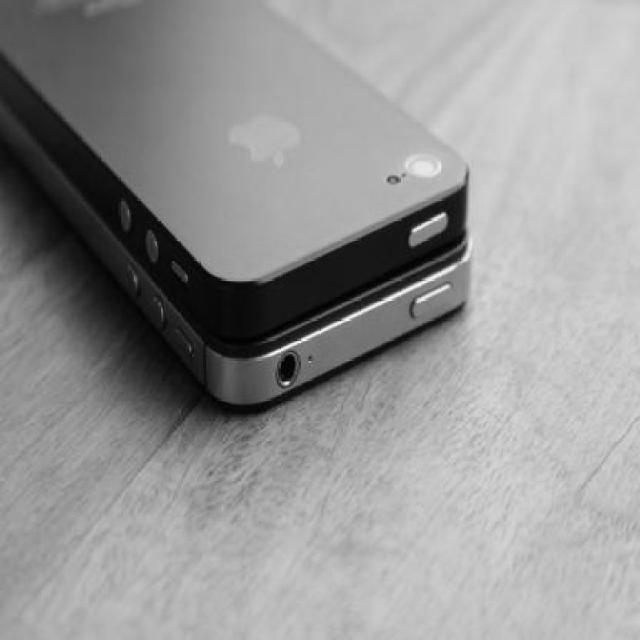fake: (3, 114, 472, 410)
